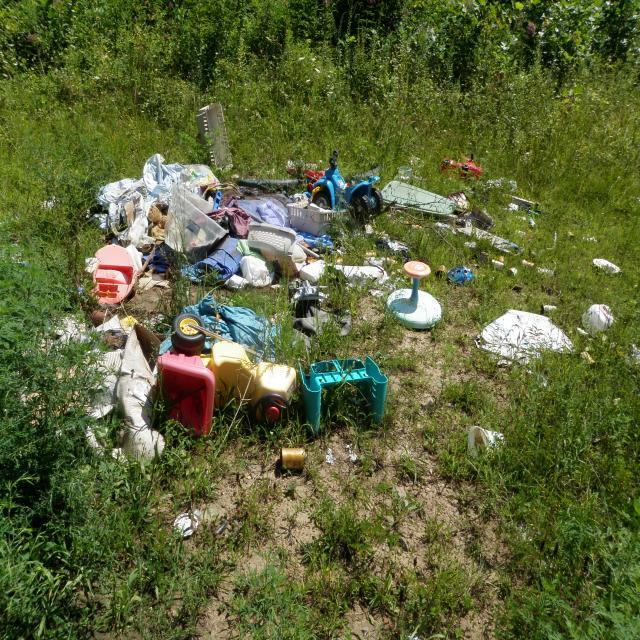plastic: (76, 291, 409, 455), (86, 134, 499, 259)
